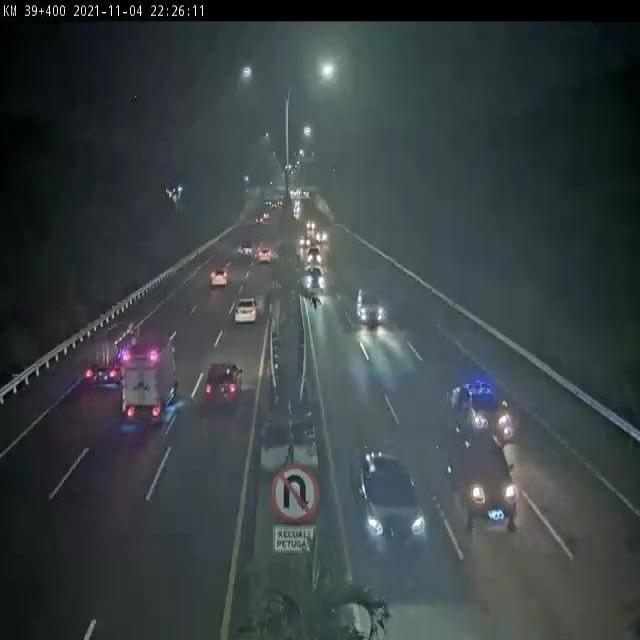car: (440, 423, 529, 541), (355, 447, 429, 568), (453, 380, 521, 441), (205, 356, 244, 409), (358, 284, 390, 343), (302, 259, 329, 300), (236, 297, 259, 324), (254, 241, 275, 268), (212, 268, 229, 293), (310, 247, 327, 269)
truck-l-: (82, 316, 121, 389)
truck-m-: (115, 329, 185, 423)
